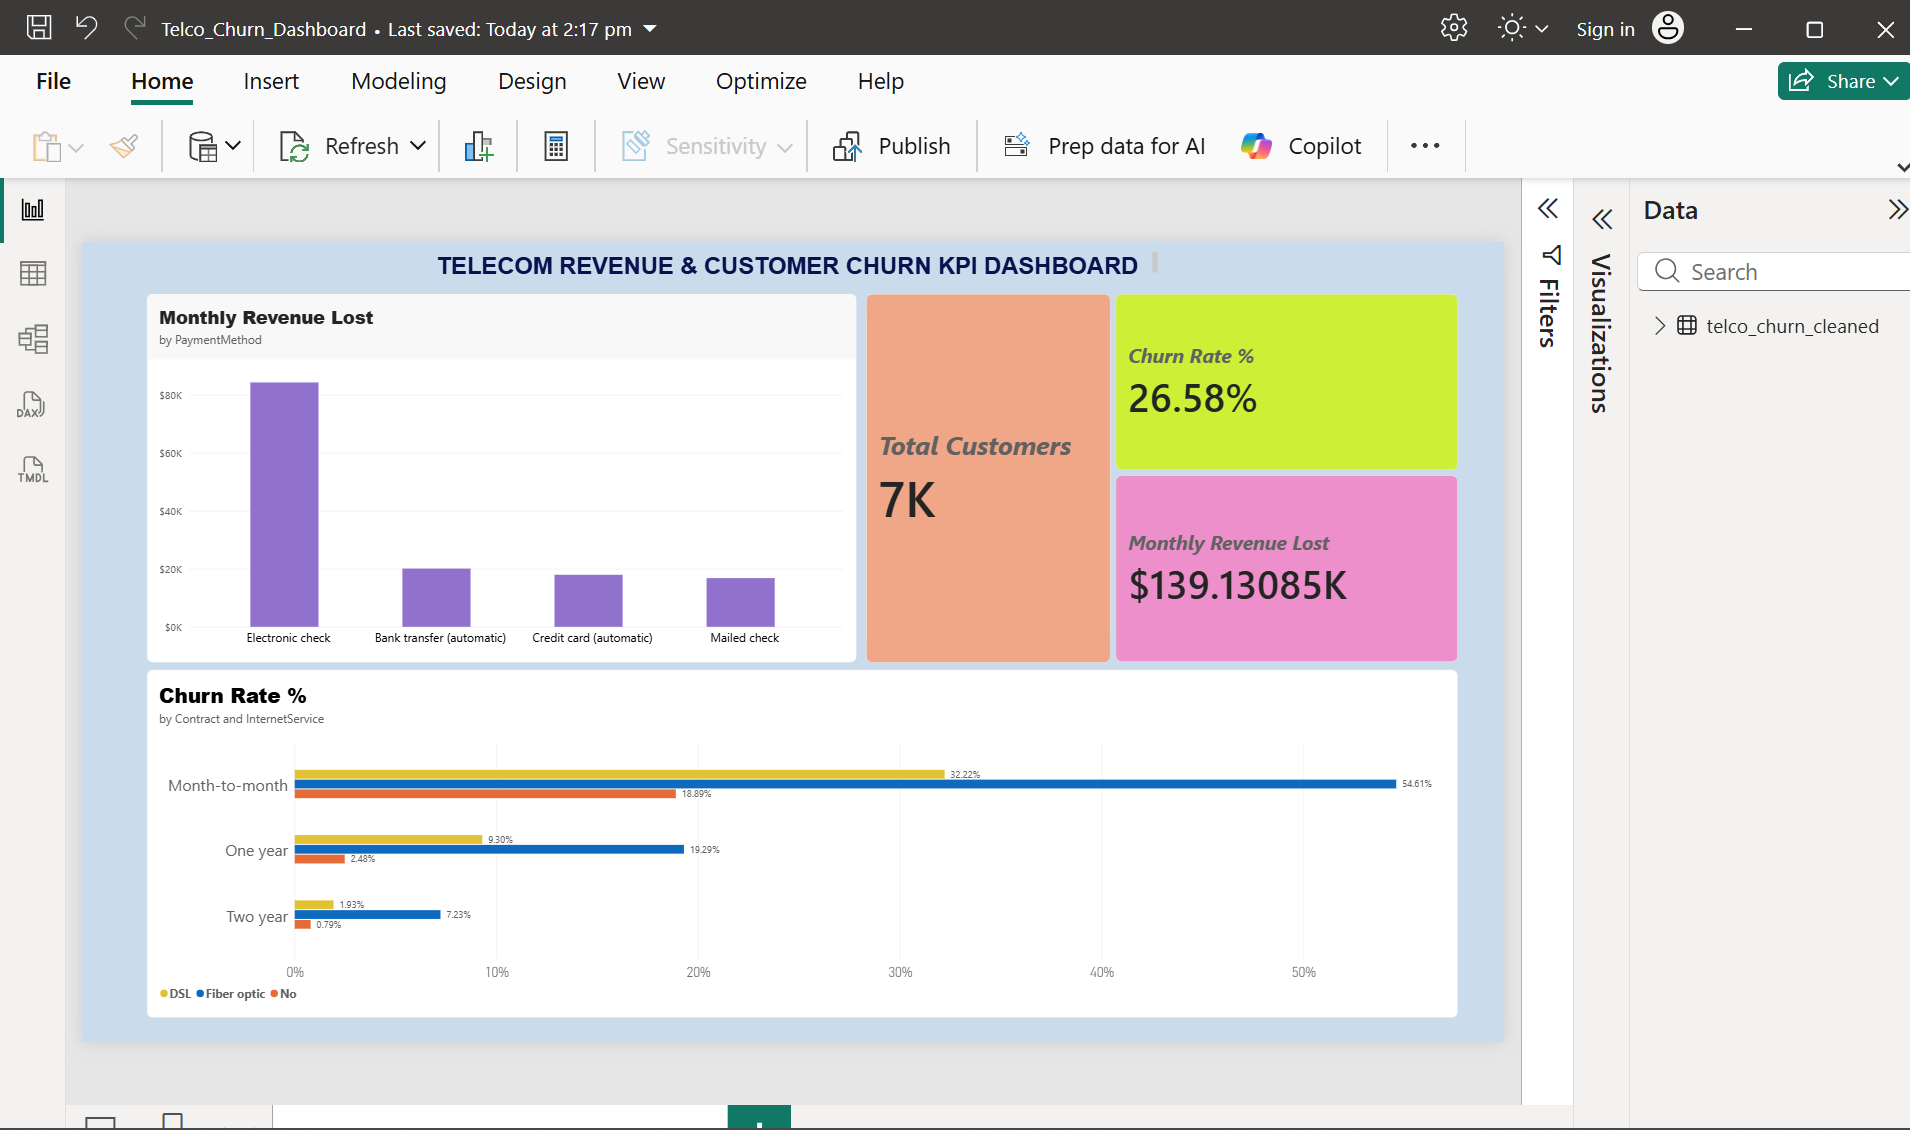

Layout of this report page (visuals, bound fields, positions):
{"tool":"powerbi","page":{"name":"TELECOM REVENUE & CUSTOMER CHURN KPI DASHBOARD","canvas":[1920,1080],"ordinal":0},"visuals":[{"type":"cardVisual","fields":{"Data":["telco_churn_cleaned.Monthly Revenue Lost"]},"box":[1396,316,462,252],"z":2},{"type":"cardVisual","fields":{"Data":["telco_churn_cleaned.Churn Rate %"]},"box":[1395.7,70,462.9,238.6],"z":3},{"type":"cardVisual","fields":{"Data":["telco_churn_cleaned.Total Customers"]},"box":[1058,70,330,498],"z":4},{"type":"clusteredBarChart","fields":{"Category":["telco_churn_cleaned.Contract"],"Series":["telco_churn_cleaned.InternetService"],"Y":["telco_churn_cleaned.Churn Rate %"]},"box":[86.7,576.7,1770,470],"z":5},{"type":"columnChart","fields":{"Category":["telco_churn_cleaned.PaymentMethod"],"Y":["telco_churn_cleaned.Monthly Revenue Lost"]},"box":[87.8,70,957.8,497.8],"z":6},{"type":"textbox","box":[470,14,982,32],"z":7}]}

Visuals, with their boxes on the page's 1920x1080 design canvas (x1, y1, x2, y2). These are canvas units, not pixel positions in the 1910x1130 screenshot, which may show the page scaled, cropped or inside an application window:
cardVisual - telco_churn_cleaned.Monthly Revenue Lost: crop(1396, 316, 1858, 568)
cardVisual - telco_churn_cleaned.Churn Rate %: crop(1396, 70, 1859, 309)
cardVisual - telco_churn_cleaned.Total Customers: crop(1058, 70, 1388, 568)
clusteredBarChart - telco_churn_cleaned.Contract x telco_churn_cleaned.InternetService: crop(87, 577, 1857, 1047)
columnChart - telco_churn_cleaned.PaymentMethod x telco_churn_cleaned.Monthly Revenue Lost: crop(88, 70, 1046, 568)
textbox: crop(470, 14, 1452, 46)
